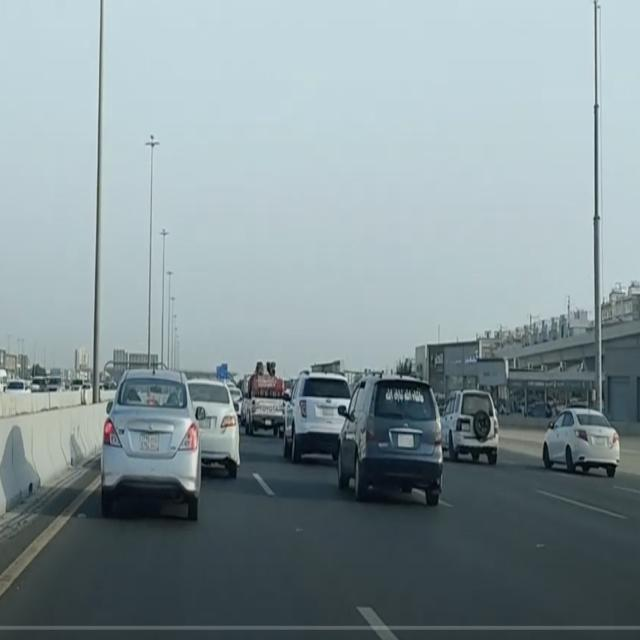license_plate: (139, 432, 159, 453), (396, 432, 415, 450), (198, 417, 211, 430), (323, 407, 335, 417), (595, 436, 605, 446), (462, 424, 469, 432), (265, 419, 272, 426)
